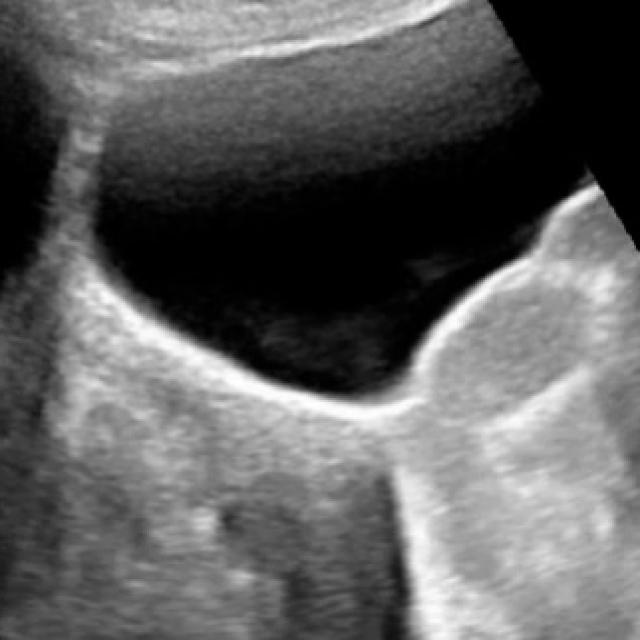bladder: (90, 0, 612, 438)
